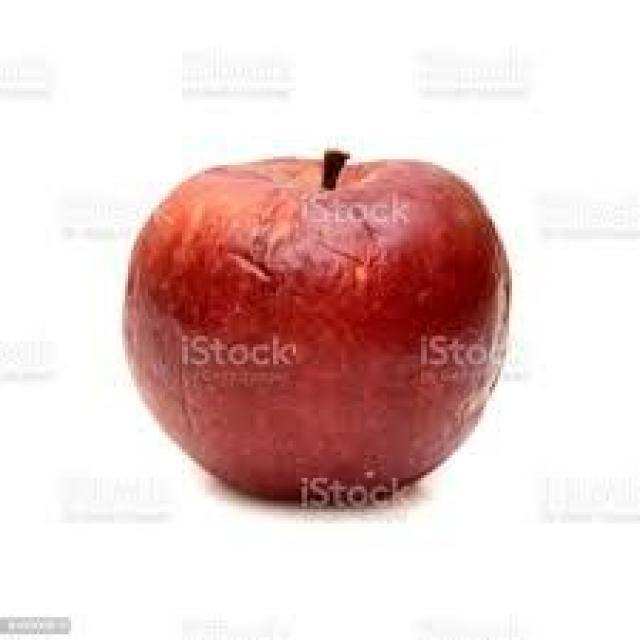Rotten: (138, 162, 520, 490)
